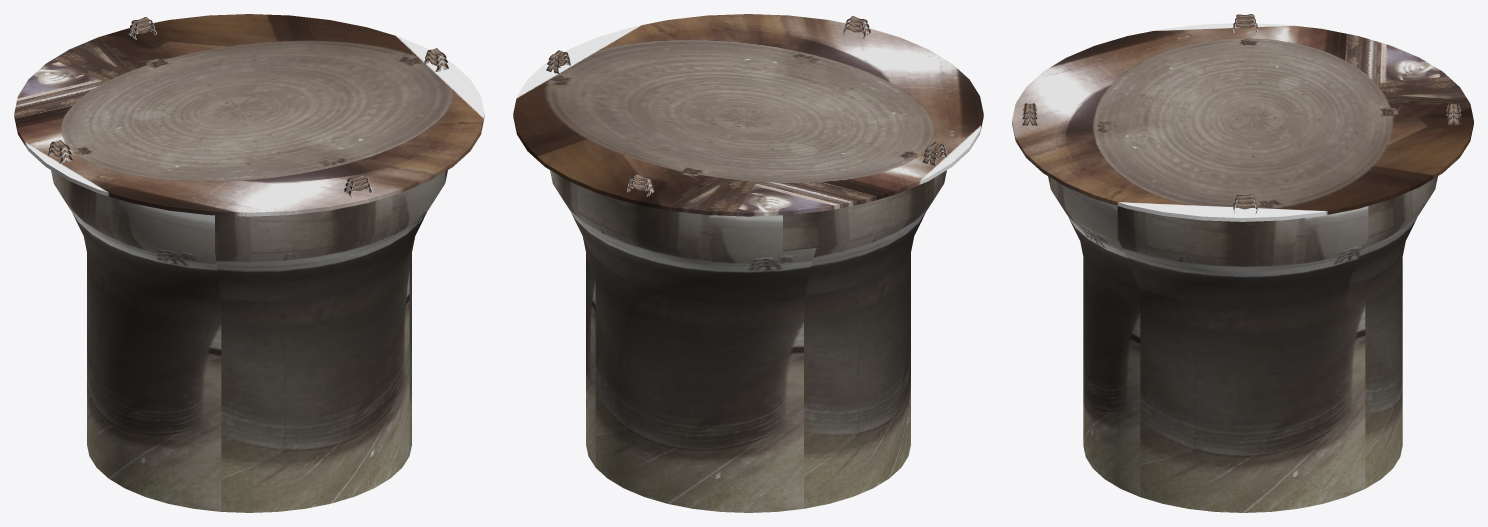
The picture shows the model from 3 angles, left to right: view 1: azimuth 30°, elevation 25°; view 2: azimuth 150°, elevation 25°; view 3: azimuth 270°, elevation 25°; orthographic projection.
Visible parts, largest first — view 1: Cylinder01, Cylinder02; view 2: Cylinder01, Cylinder02; view 3: Cylinder01, Cylinder02.
Boxes of the visible parts, x1,y1,x2,y2 form: Cylinder01: (51,170,447,512); Cylinder02: (14,14,484,216); Cylinder01: (550,170,946,512); Cylinder02: (513,14,983,216); Cylinder01: (1048,176,1437,512); Cylinder02: (1012,23,1473,221).
Bounding box in the file's own units: 102 × 82.57 × 102.
2 materials, 2 textured.
